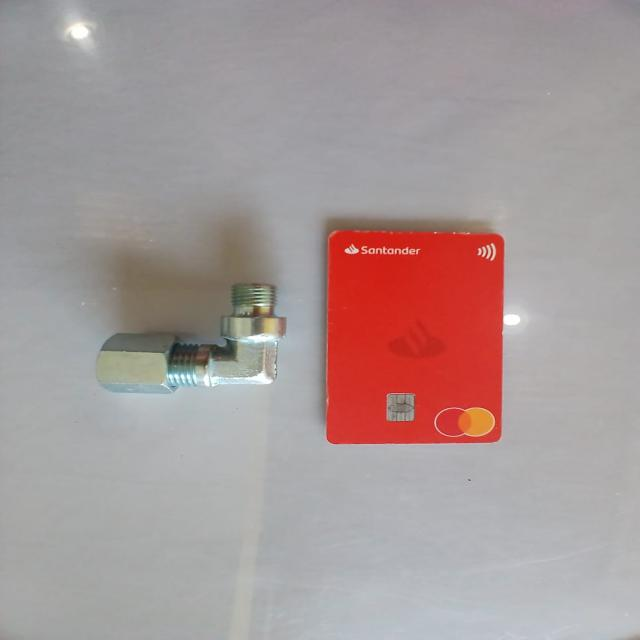cartao: (326, 229, 504, 443)
rosca_externa: (100, 283, 290, 394)
